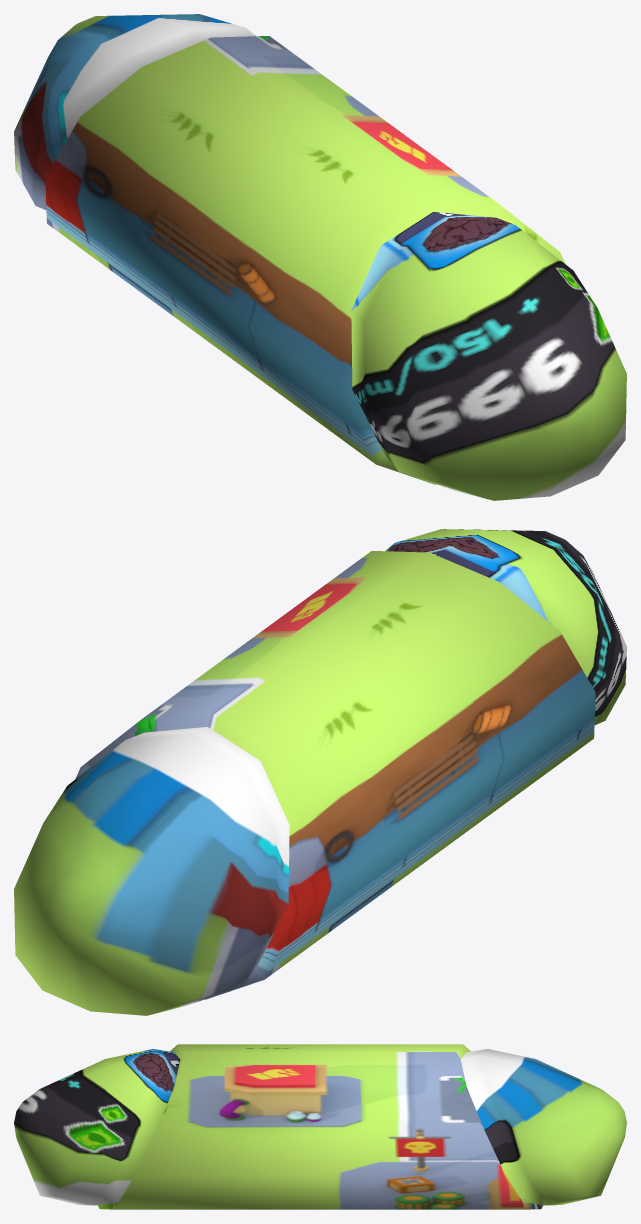
Rendered from DHP_MOD_Cannoli.fbx.
3 views of the same model, one above another, from view 1: azimuth 30°, elevation 25°; view 2: azimuth 150°, elevation 25°; view 3: azimuth 270°, elevation 25° (orthographic). The views are drawn at different scales.
Visible parts, largest first — view 1: DHP_MOD_Cannoli; view 2: DHP_MOD_Cannoli; view 3: DHP_MOD_Cannoli.
Boxes of the visible parts, bbox=[...] form: DHP_MOD_Cannoli: bbox=[14, 14, 626, 500]; DHP_MOD_Cannoli: bbox=[14, 529, 626, 1015]; DHP_MOD_Cannoli: bbox=[14, 1044, 626, 1209].
Size of the model in its own units: 0.1898 by 0.1621 by 0.6367.
